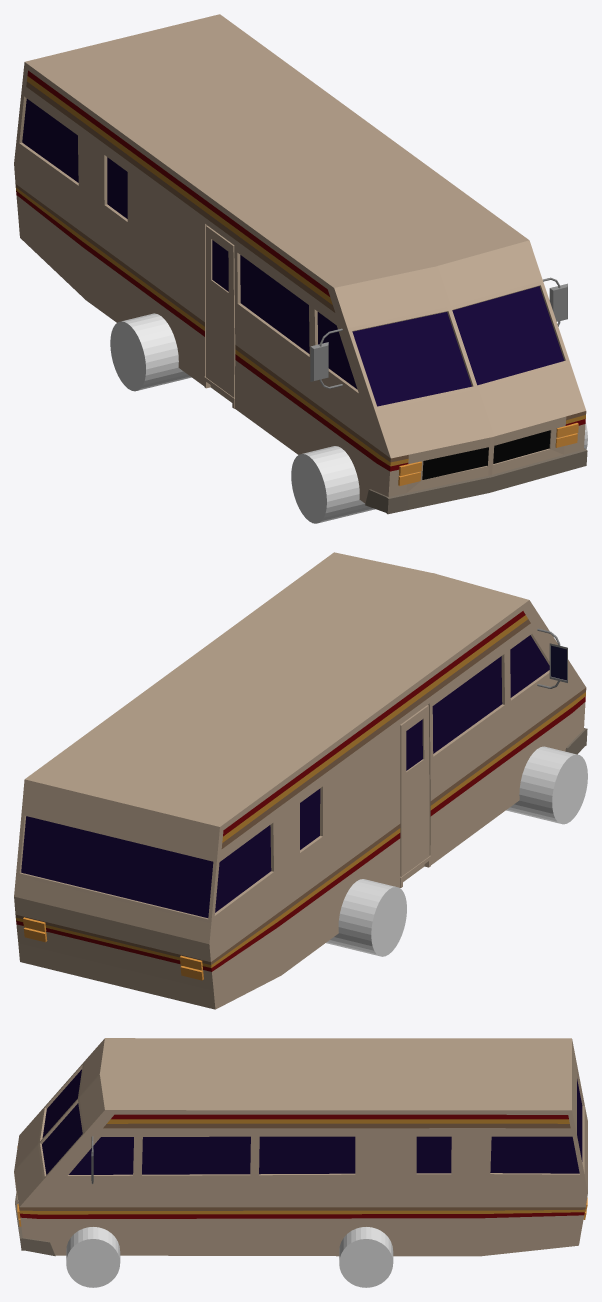
The model's file is car.fbx.
3 renders of one model, top to bottom at view 1: azimuth 30°, elevation 25°; view 2: azimuth 150°, elevation 25°; view 3: azimuth 270°, elevation 25°, orthographic. The views are drawn at different scales.
Parts seen in each view (by area): view 1: rv, Cylinder, Cylinder.003, Spion, Lamp_front; view 2: rv, Cylinder, Cylinder.003, Lamp_back, Spion; view 3: rv, Cylinder, Cylinder.003.
Part boxes in pixels (x1=…): rv: x1=14, y1=14, x2=587, y2=514; Cylinder: x1=291, y1=422, x2=587, y2=523; Cylinder.003: x1=110, y1=313, x2=191, y2=391; Spion: x1=310, y1=277, x2=567, y2=388; Lamp_front: x1=398, y1=423, x2=578, y2=486; rv: x1=14, y1=552, x2=587, y2=1009; Cylinder: x1=506, y1=746, x2=587, y2=824; Cylinder.003: x1=326, y1=879, x2=406, y2=956; Lamp_back: x1=23, y1=917, x2=203, y2=980; Spion: x1=537, y1=628, x2=567, y2=688; rv: x1=14, y1=1038, x2=587, y2=1256; Cylinder: x1=66, y1=1227, x2=120, y2=1287; Cylinder.003: x1=339, y1=1227, x2=393, y2=1287.
Size of the model in its own units: 690 by 555 by 1743.
